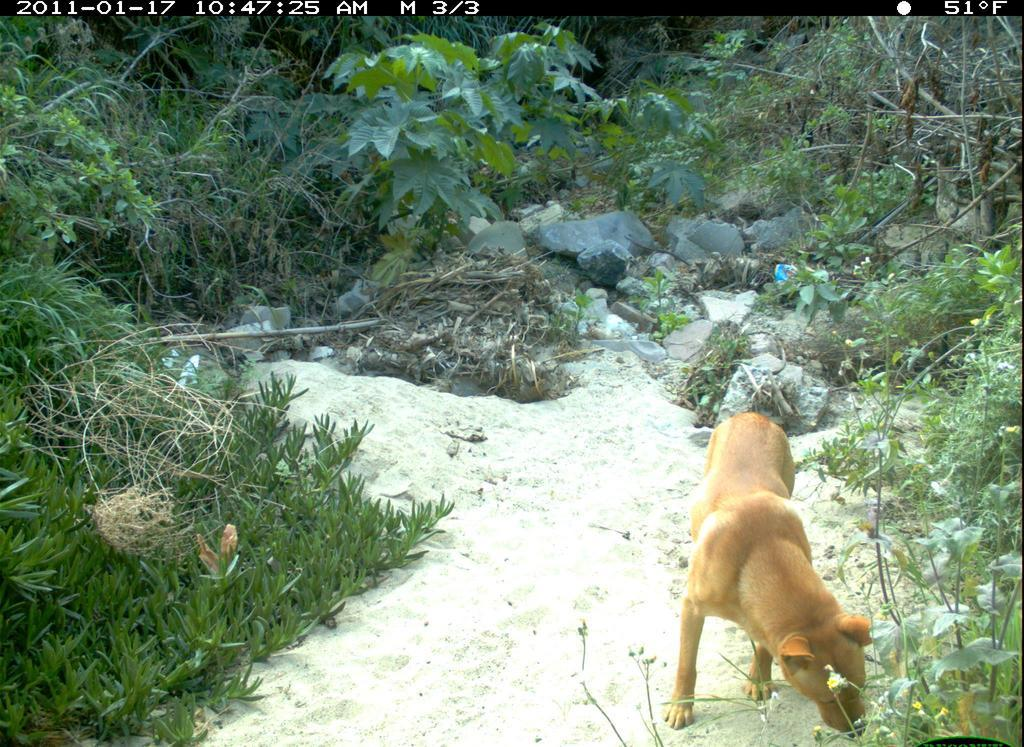dog: (664, 386, 894, 740)
